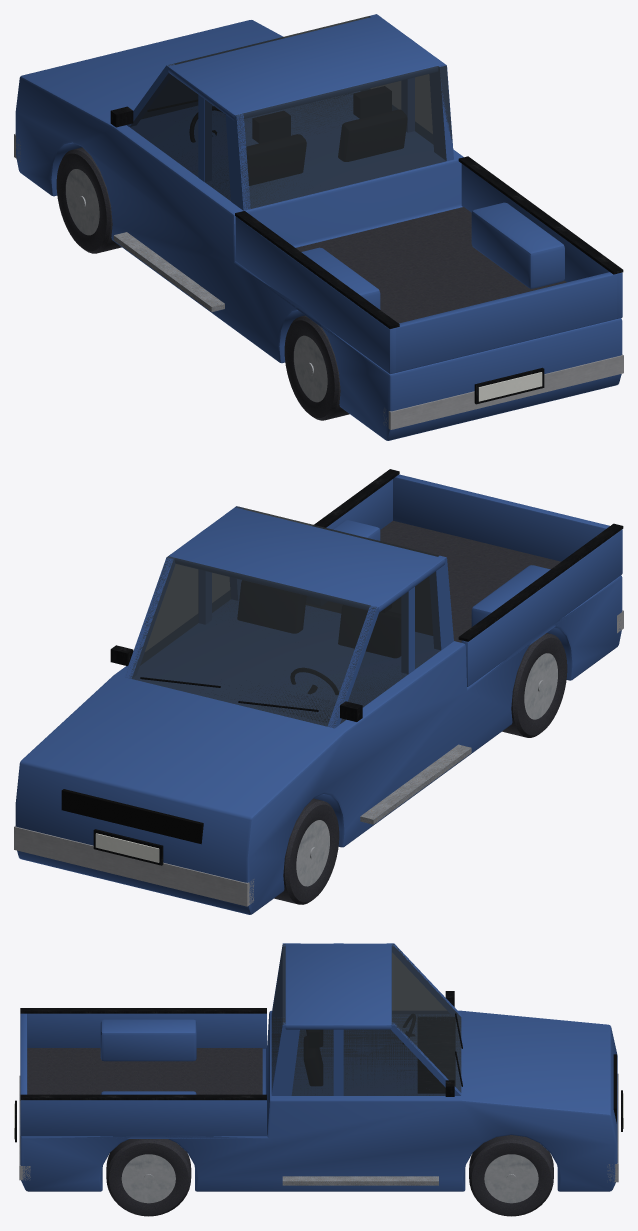
The model's file is pickup_blue.gltf.
The picture shows the model from 3 angles, top to bottom: view 1: azimuth 30°, elevation 25°; view 2: azimuth 150°, elevation 25°; view 3: azimuth 270°, elevation 25°; orthographic projection. The views are drawn at different scales.
Parts seen in each view (by area): view 1: pickup_blue; view 2: pickup_blue; view 3: pickup_blue.
Boxes of the visible parts, bbox=[...] form: pickup_blue: bbox=[14, 14, 623, 440]; pickup_blue: bbox=[14, 469, 623, 914]; pickup_blue: bbox=[14, 943, 623, 1216].
Size of the model in its own units: 2.14 by 1.86 by 5.47.
19 materials, 11 textured.
